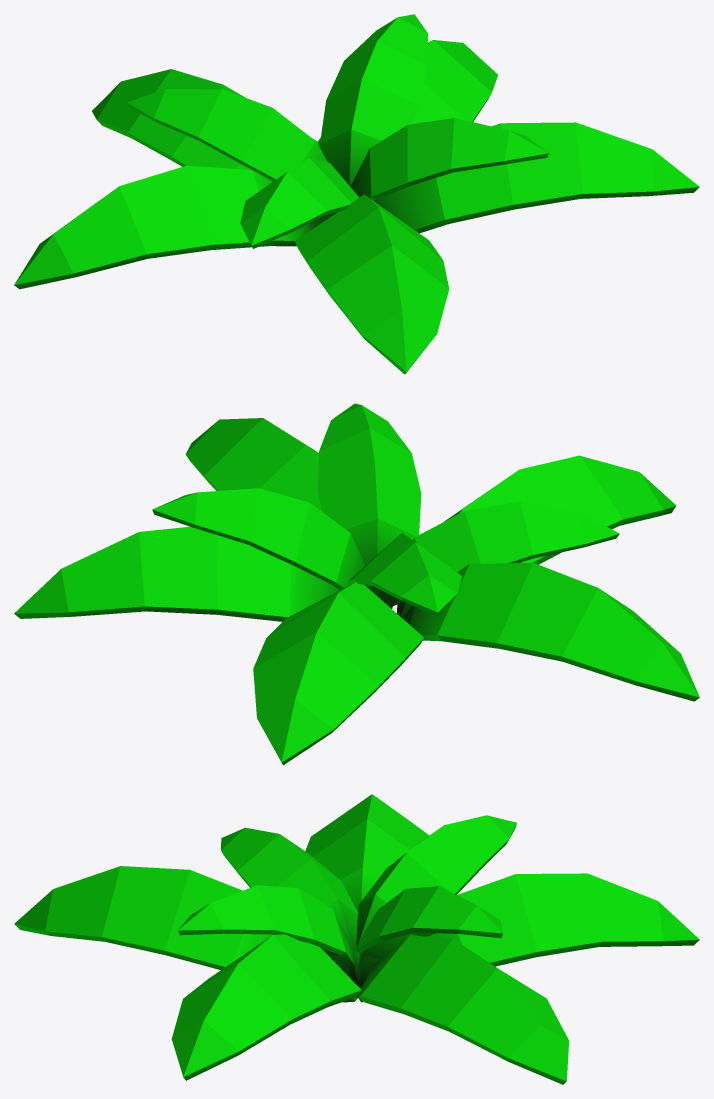
File: SM_FloorPlant_01.fbx
3 views of the same model, one above another, from view 1: azimuth 30°, elevation 25°; view 2: azimuth 150°, elevation 25°; view 3: azimuth 270°, elevation 25° (orthographic). The views are drawn at different scales.
Visible parts, largest first — view 1: SM_FloorPlant_01; view 2: SM_FloorPlant_01; view 3: SM_FloorPlant_01.
Part boxes in pixels (<box>): SM_FloorPlant_01: <box>14,14,699,374</box>; SM_FloorPlant_01: <box>14,403,699,765</box>; SM_FloorPlant_01: <box>14,794,699,1084</box>.
Bounding box in the file's own units: 211 × 52.19 × 216.
